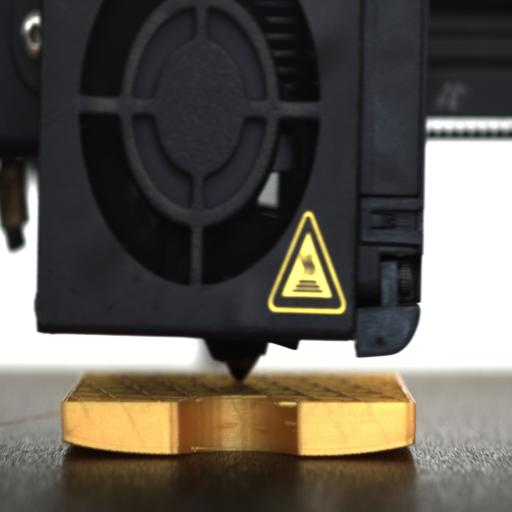warp: (293, 433, 419, 455), (59, 431, 177, 454)
